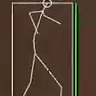hacks_1: (10, 1, 79, 95)
